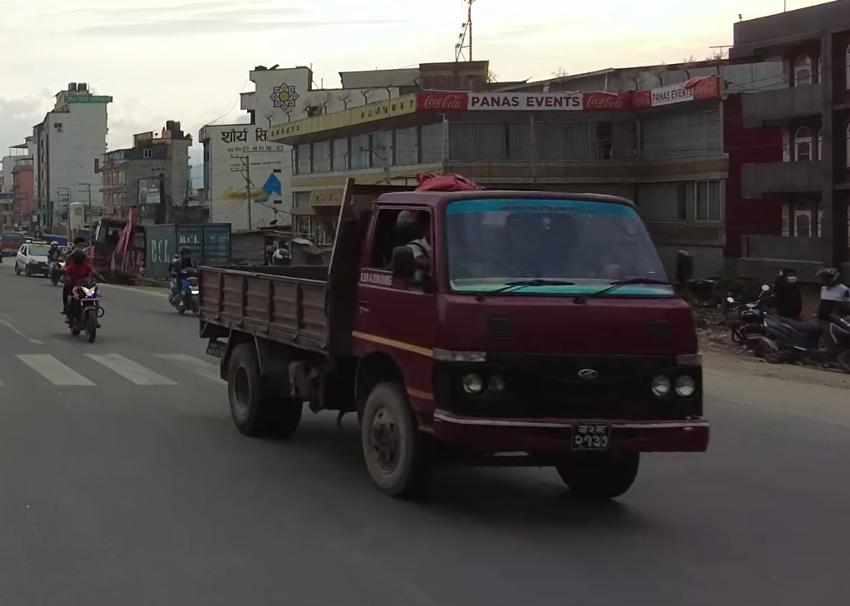bike: (46, 266, 116, 346), (730, 293, 786, 354)
mini_truck: (179, 171, 724, 520)
scooter: (785, 309, 850, 368), (160, 249, 209, 314)
taxi: (0, 237, 58, 279)
